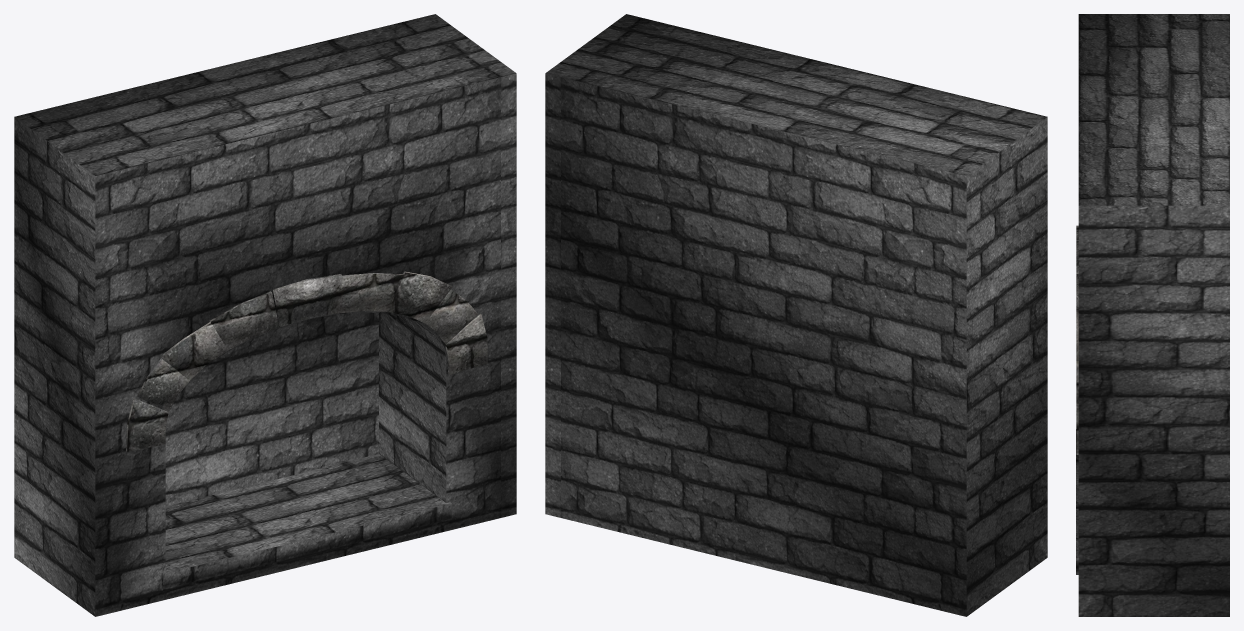
Rendered from stone wall fireplace2.glb.
3 renders of one model, left to right at view 1: azimuth 30°, elevation 25°; view 2: azimuth 150°, elevation 25°; view 3: azimuth 270°, elevation 25°, orthographic. The views are drawn at different scales.
Visible parts, largest first — view 1: Fireplace Large; view 2: Fireplace Large; view 3: Fireplace Large.
Boxes of the visible parts, bbox=[...] form: Fireplace Large: bbox=[14, 14, 516, 616]; Fireplace Large: bbox=[545, 14, 1047, 616]; Fireplace Large: bbox=[1076, 14, 1229, 616].
Bounding box in the file's own units: 2.74 × 2.74 × 0.9302.
2 materials, 2 textured.
